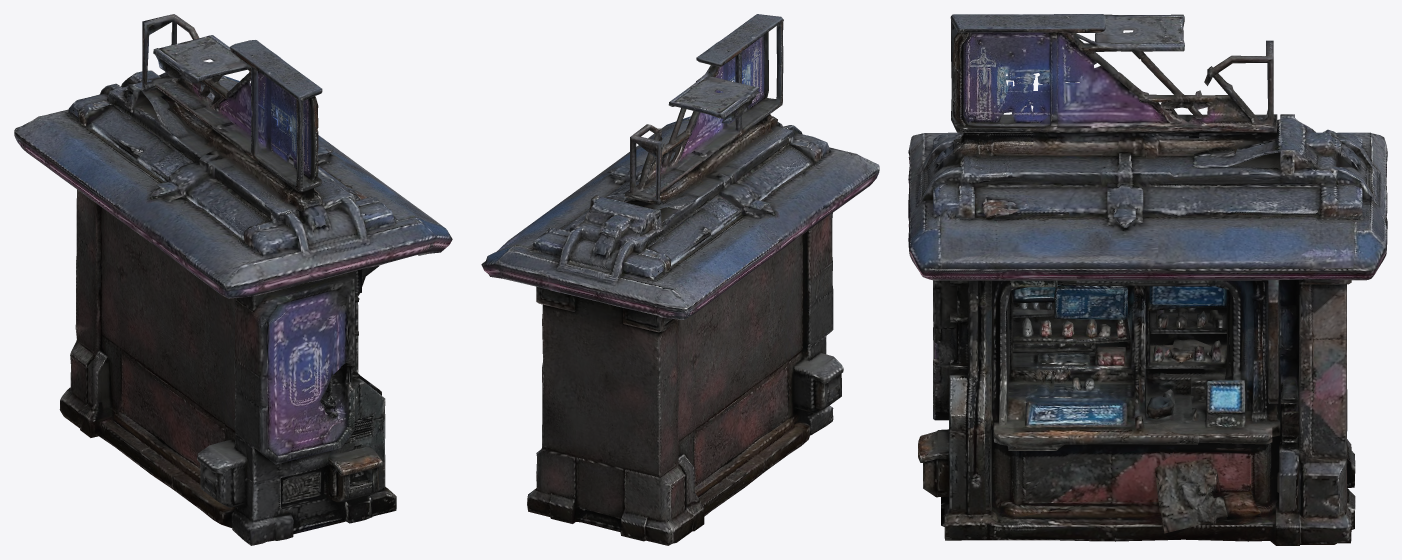
File: tripo_convert_2f285c81-6a44-43a1-99c0-039928d84f7f.fbx
The picture shows the model from 3 angles, left to right: view 1: azimuth 30°, elevation 25°; view 2: azimuth 150°, elevation 25°; view 3: azimuth 270°, elevation 25°; orthographic projection. The views are drawn at different scales.
Parts seen in each view (by area): view 1: tripo_node_2f285c81; view 2: tripo_node_2f285c81; view 3: tripo_node_2f285c81.
Part boxes in pixels (x1=…): tripo_node_2f285c81: x1=14, y1=14, x2=452, y2=545; tripo_node_2f285c81: x1=481, y1=14, x2=879, y2=545; tripo_node_2f285c81: x1=908, y1=14, x2=1387, y2=545.
Bounding box in the file's own units: 0.5425 × 0.9775 × 0.8904.
1 material, 1 textured.
